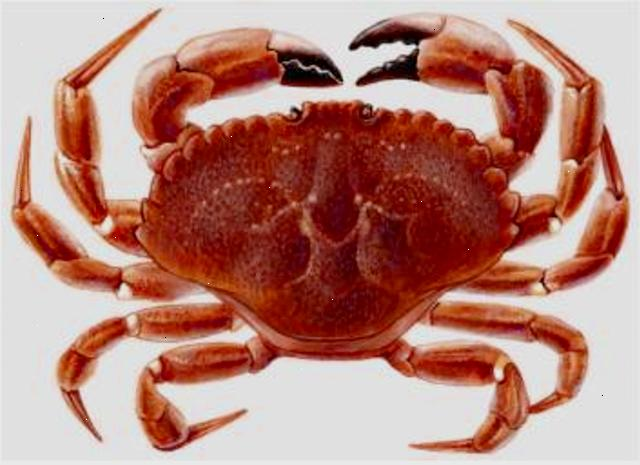crab: (11, 11, 631, 453), (11, 11, 630, 453)
